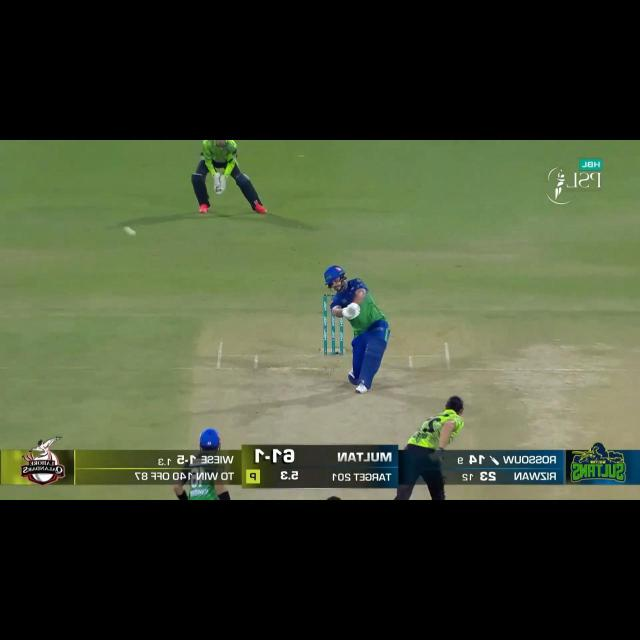bat: (344, 304, 357, 318)
